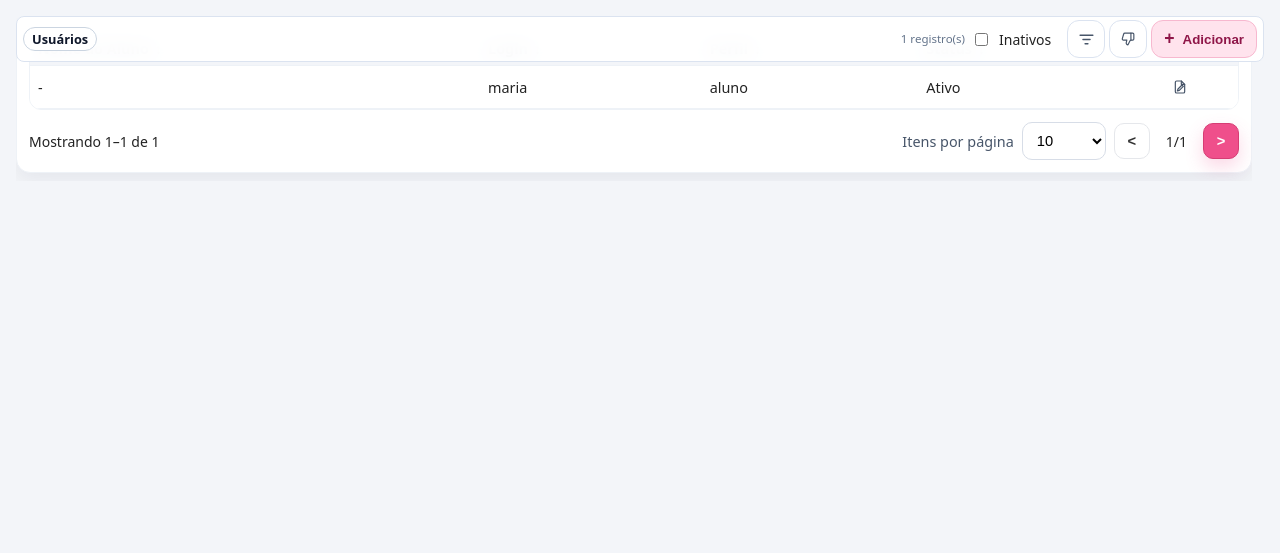
Test: Users breadcrumb › Usuários reaproveita valores carregados quando faltam opções de filtro
Expected: the text "maria" is shown, [480,66,702,108]
What coordinates should you click on to do the following:
click the button named "Abrir filtros"
I would click on:
 (1086, 39)
Its box is [1067,20,1105,58].
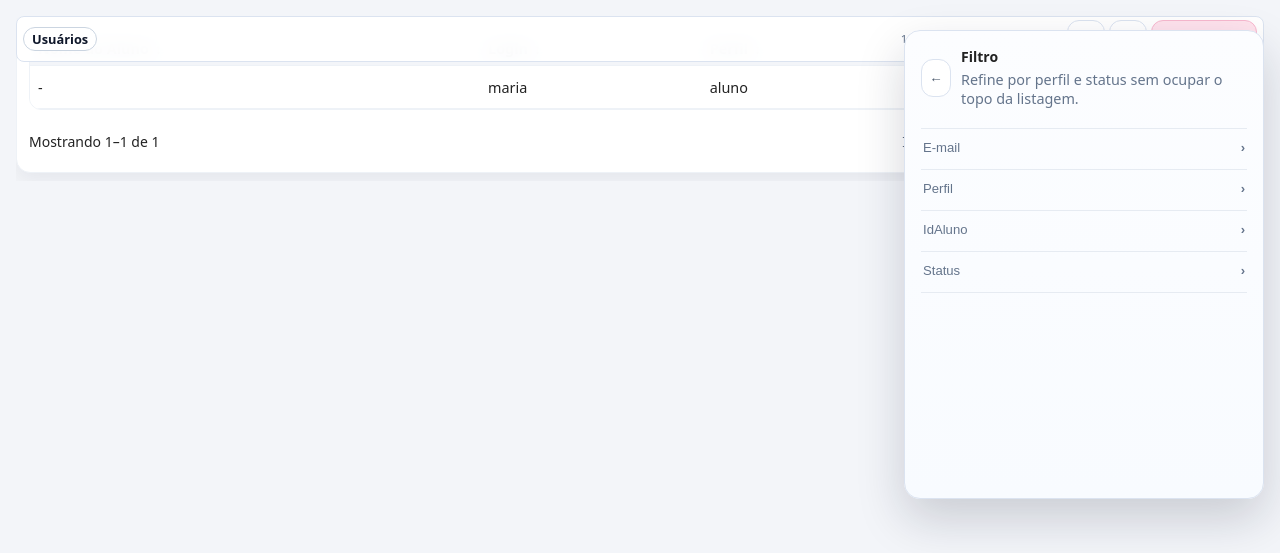
What coordinates should you click on to do the following:
click the button "Perfil ›"
I would click on:
 (938, 188)
Its box is [921,170,1247,211].
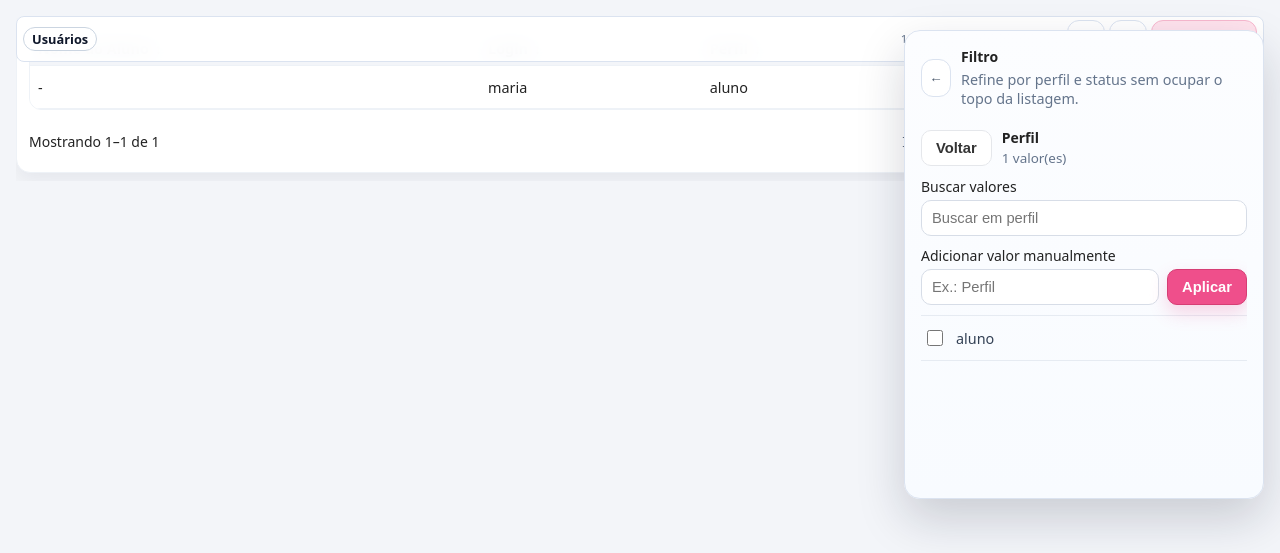
Expected: the checkbox labelled "aluno" is shown, [927,330,943,346]
